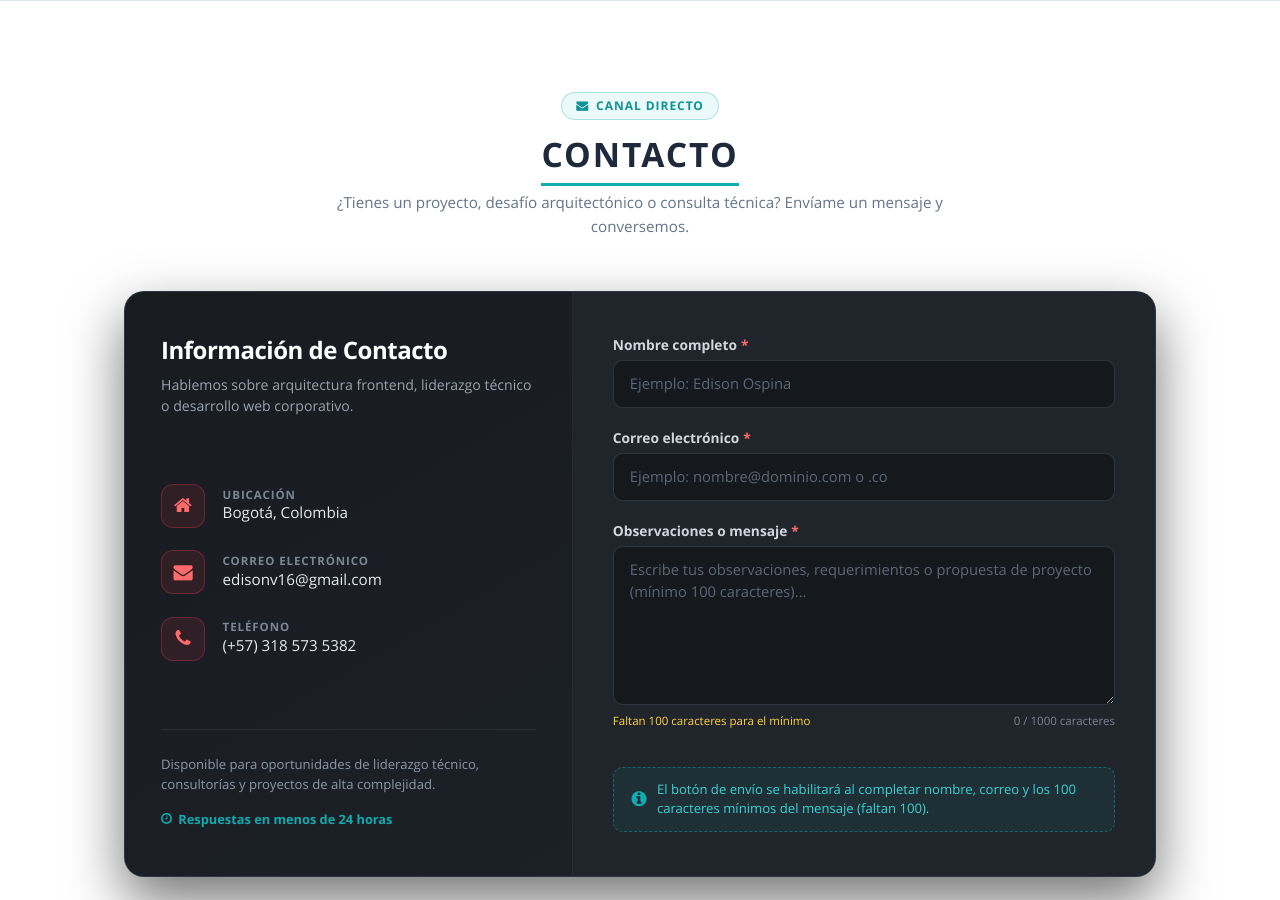
Test: Contact Component › displays send button only when all fields fulfill validation requirements
Check: the button "Enviar Mensaje" is not shown
Type "Carlos Mendoza" into the field labelled "Nombre completo*" at (864, 384), box x1=613 y1=360 x2=1115 y2=408
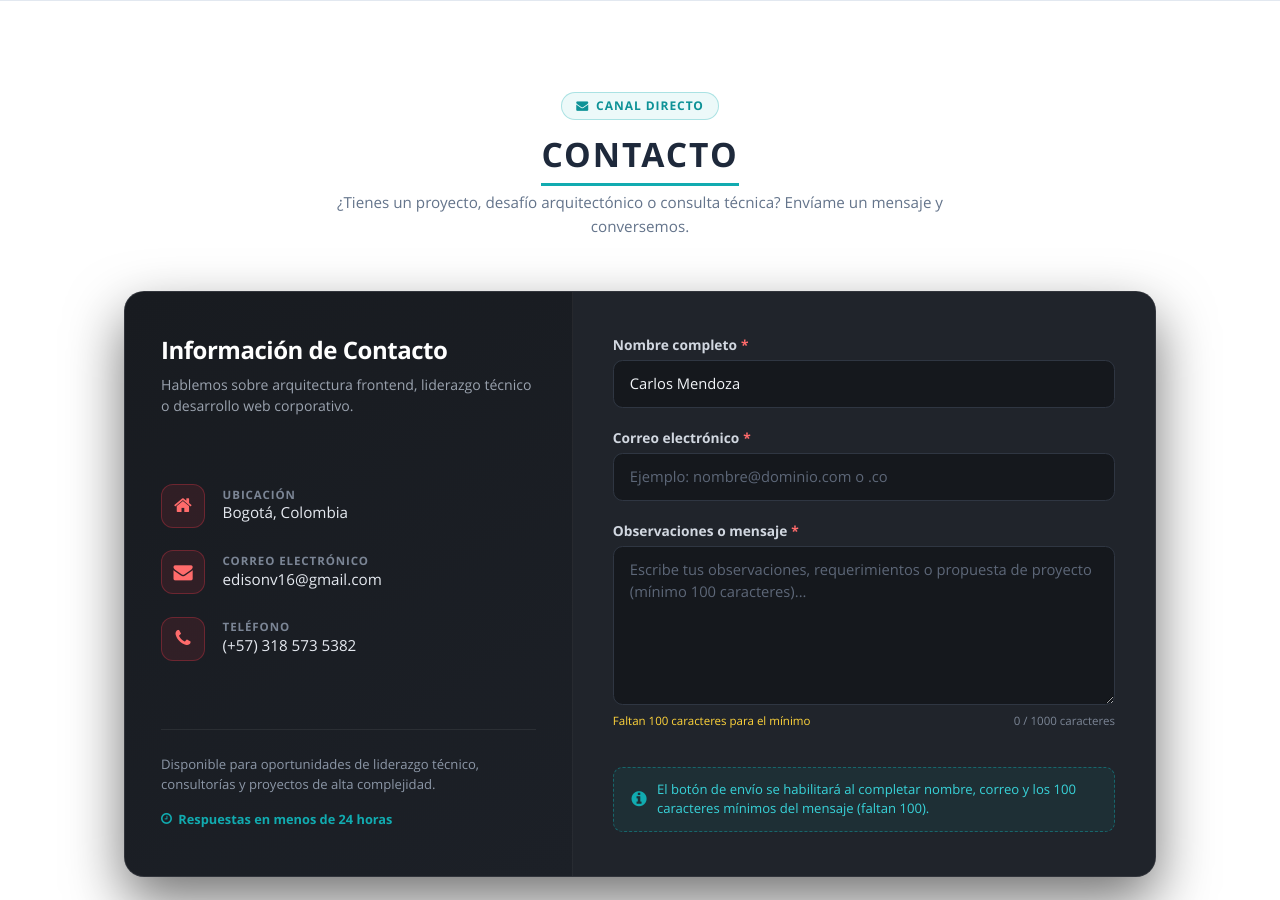
Type "carlos@empresa.com.co" into the field labelled "Correo electrónico*" at (864, 477), box x1=613 y1=453 x2=1115 y2=501
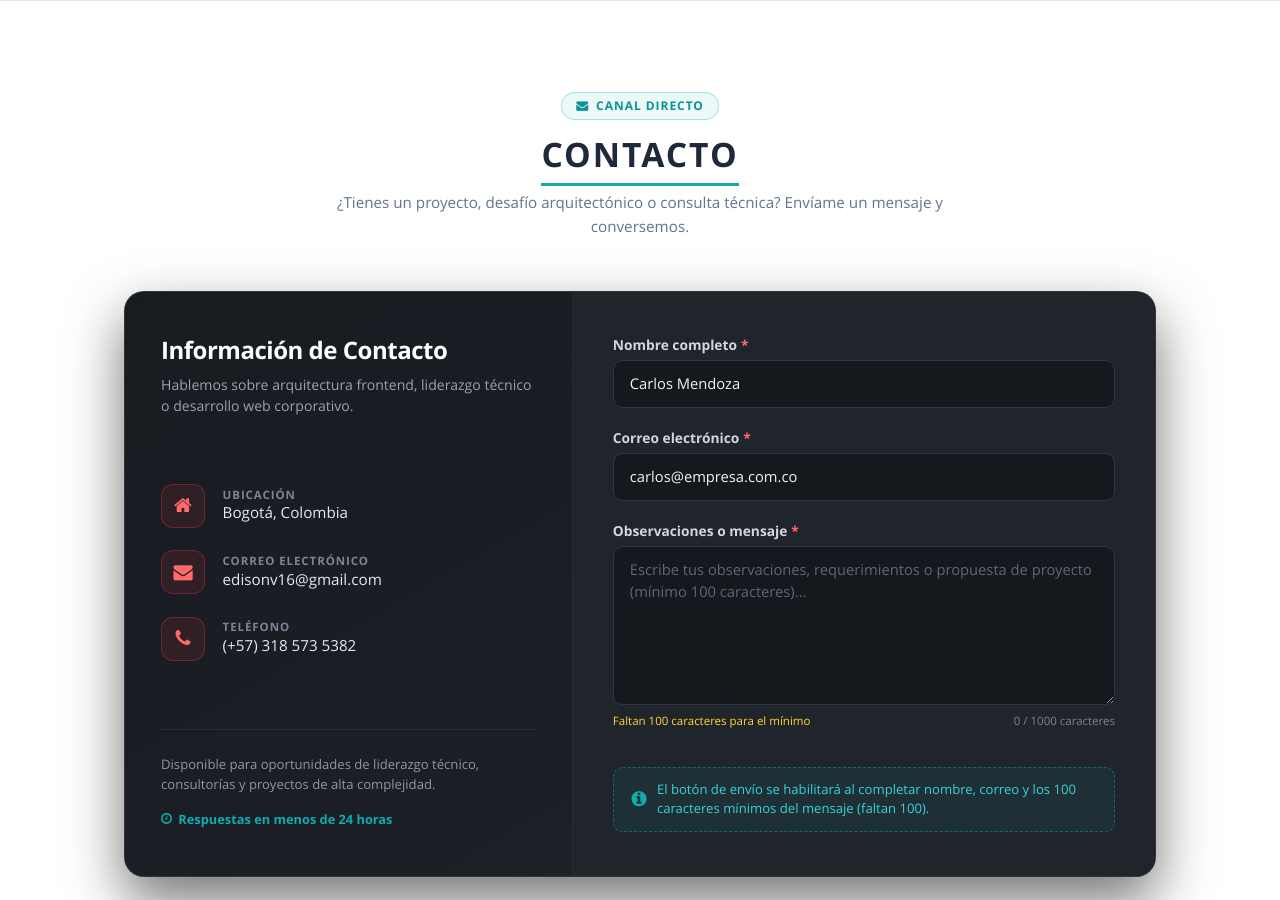
Replace the text in the text box labelled "Observaciones o mensaje*" with "Estimado Edison, me interesó mucho tu perfil profesional como Senior Frontend Engineer y deseamos coordinar una entrevista técnica para un proyecto." at (864, 626), box x1=613 y1=546 x2=1115 y2=705
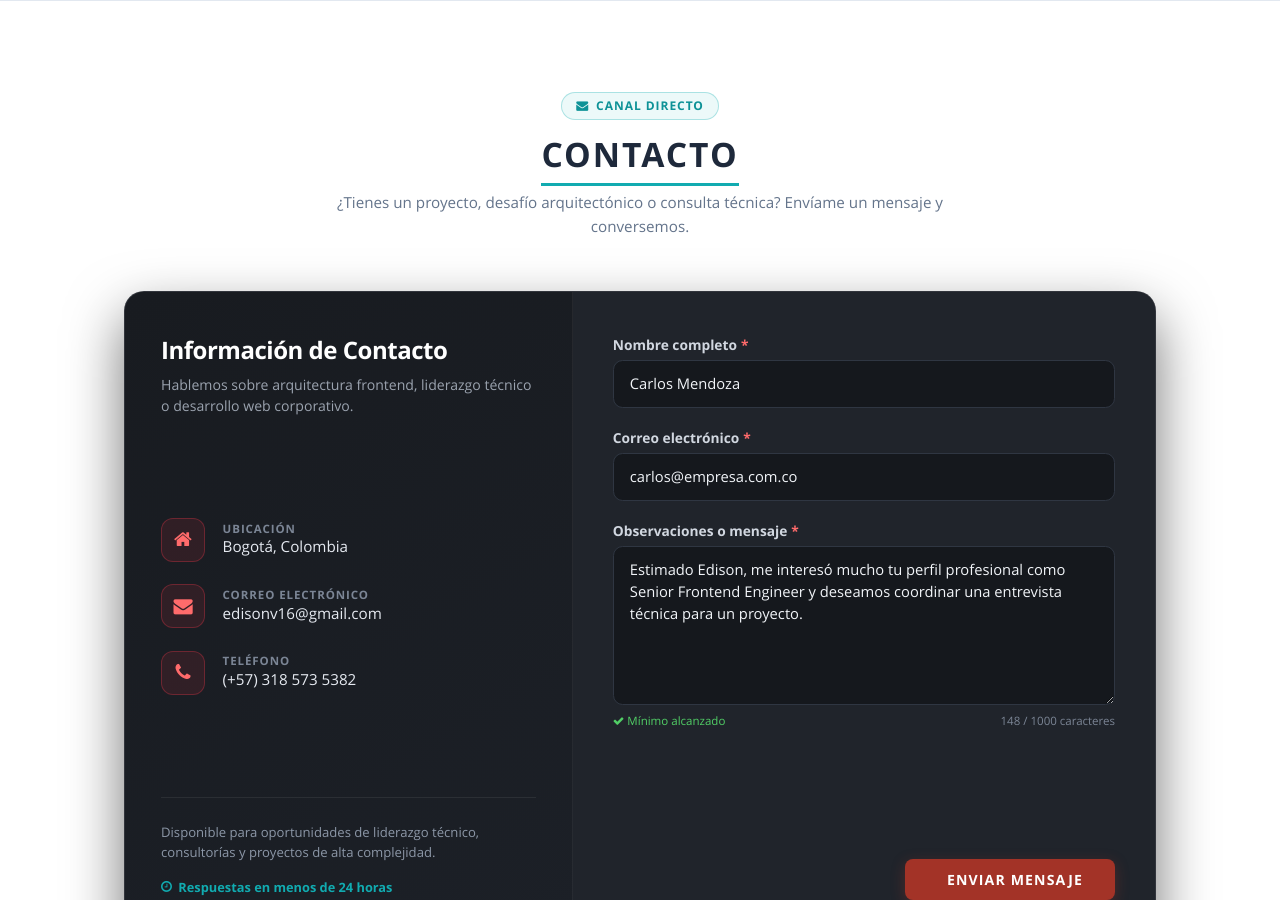
Check: the button "Enviar Mensaje" is shown, box x1=905 y1=859 x2=1115 y2=899
